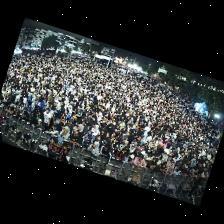person: (99, 144, 111, 169), (57, 127, 68, 146), (132, 155, 145, 169), (69, 131, 81, 146), (47, 123, 60, 136), (86, 142, 98, 156), (59, 109, 70, 124), (62, 119, 72, 135), (43, 108, 50, 130), (34, 113, 43, 129), (110, 138, 119, 154), (52, 105, 60, 123), (74, 105, 82, 123), (118, 135, 127, 150), (146, 158, 157, 170), (114, 149, 125, 161), (81, 137, 91, 150), (73, 124, 83, 137), (81, 112, 90, 126), (156, 162, 165, 175), (35, 98, 43, 112), (160, 148, 168, 162), (172, 165, 181, 177), (81, 131, 90, 143), (90, 125, 97, 140), (127, 129, 134, 144), (20, 108, 28, 121), (131, 147, 141, 157), (131, 136, 141, 146), (93, 136, 102, 147), (147, 146, 156, 157), (143, 152, 152, 163), (101, 133, 110, 144), (29, 111, 36, 125), (140, 141, 148, 153), (179, 167, 189, 176), (166, 158, 175, 168), (147, 139, 156, 148), (164, 166, 172, 176), (81, 120, 87, 133), (42, 98, 48, 111), (46, 92, 52, 105), (124, 155, 133, 163), (6, 104, 13, 114), (129, 142, 136, 152), (110, 132, 117, 142), (25, 100, 30, 113), (182, 160, 190, 168), (0, 102, 7, 111), (58, 155, 66, 162), (156, 155, 162, 164), (189, 168, 193, 180), (166, 153, 172, 161), (30, 99, 34, 111), (140, 146, 145, 155), (193, 169, 197, 179)
